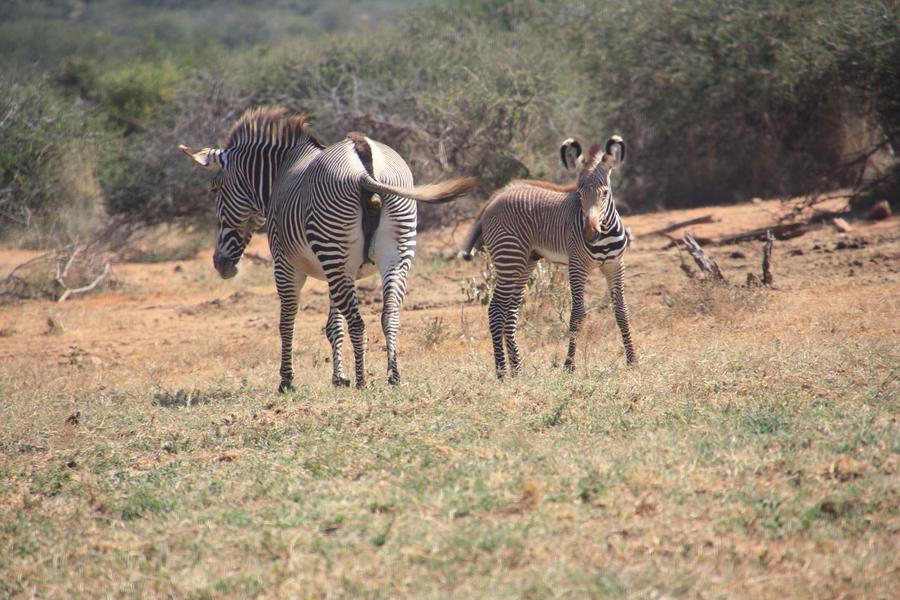zebra_grevys: (483, 177, 600, 258)
